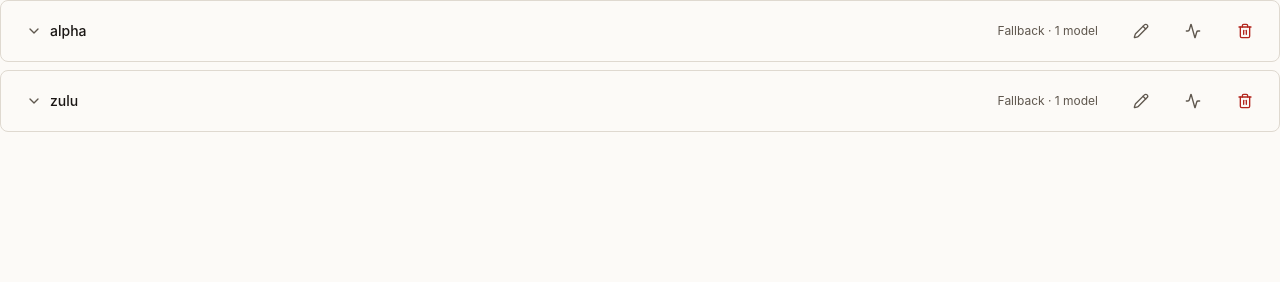
Scenario: the combo list › sorts by name and opens a combo for its detail, closed by default
Check: the text "openai/gpt-4o" is not shown
Click the button "alpha Fallback · 1 model": (68, 30) [13, 9, 1111, 53]
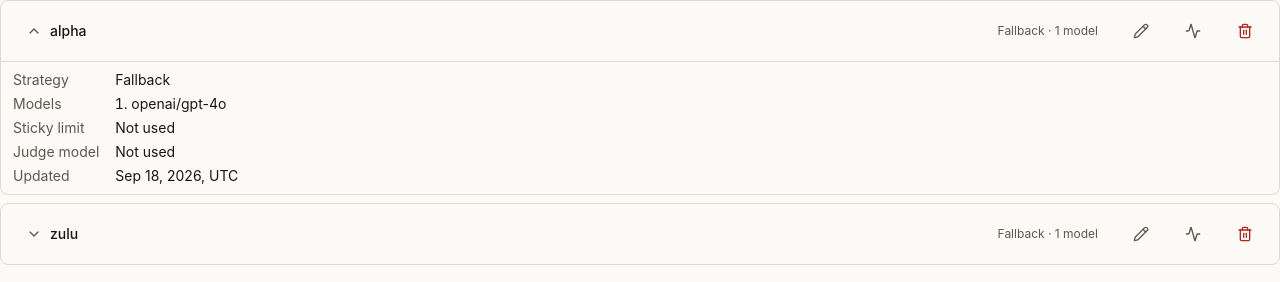
Check: the list item "openai/gpt-4o" is shown, box [131, 95, 226, 112]
